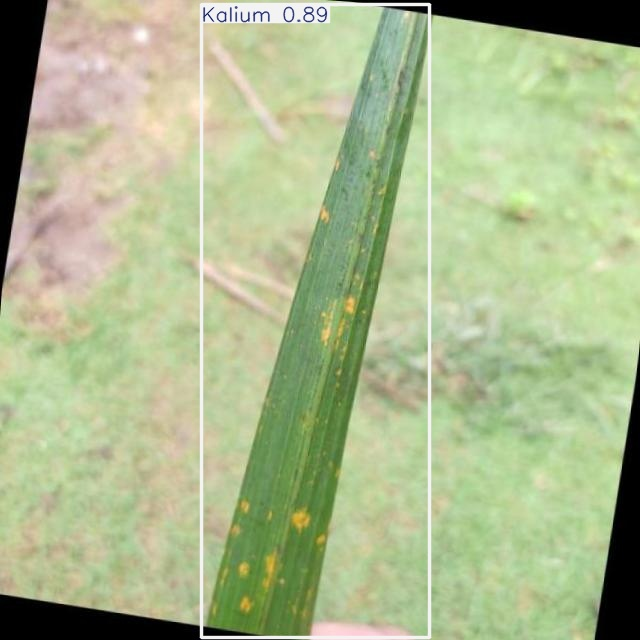Kalium: (202, 5, 429, 638)
